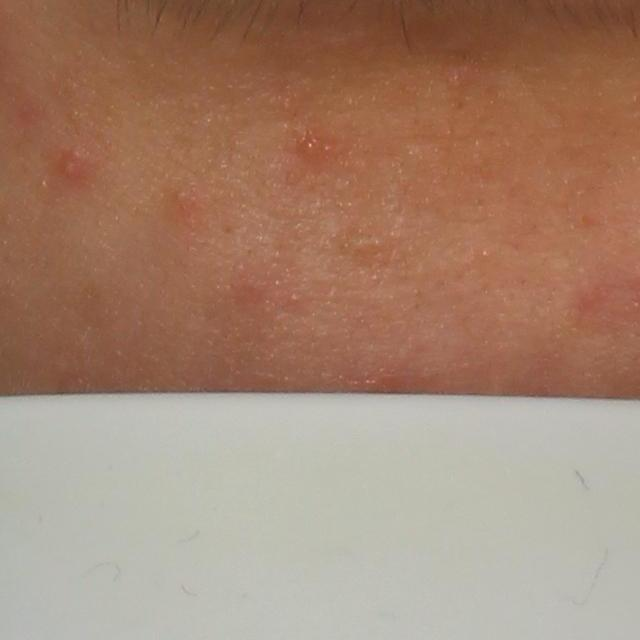papule: (292, 126, 332, 166), (57, 147, 88, 180)
